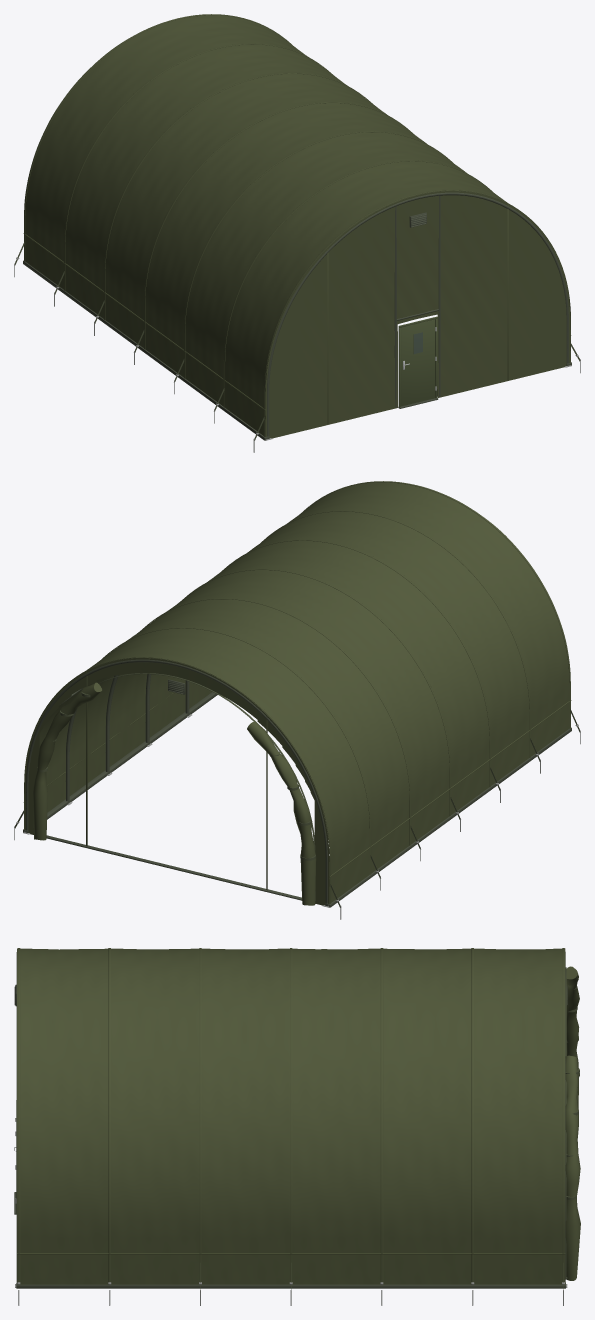
The model's file is mex-26-deployed.glb.
3 views of the same model, one above another, from view 1: azimuth 30°, elevation 25°; view 2: azimuth 150°, elevation 25°; view 3: azimuth 270°, elevation 25° (orthographic). The views are drawn at different scales.
Visible parts, largest first — view 1: MEX26_shelter; view 2: MEX26_shelter; view 3: MEX26_shelter.
Part boxes in pixels (x1,y1,x2,y2): MEX26_shelter: [14, 14, 580, 452]; MEX26_shelter: [14, 481, 580, 919]; MEX26_shelter: [14, 948, 580, 1305].
Size of the model in its own units: 8.66 by 5.53 by 11.43.
